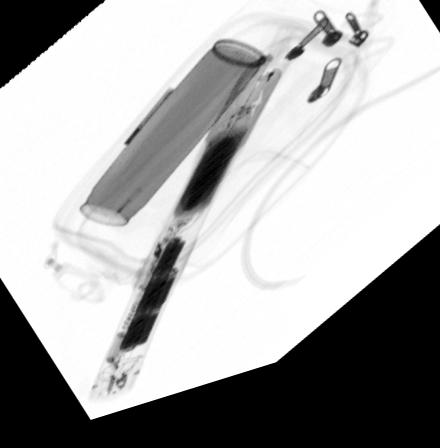Baton: (85, 54, 302, 409)
